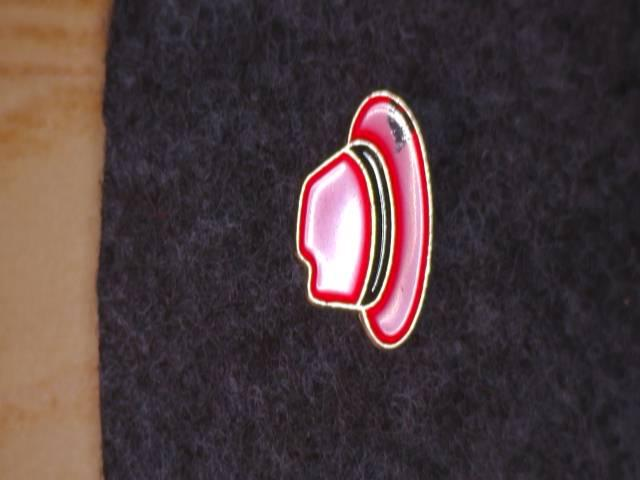Red-Hat: (277, 63, 477, 381)
Scratch: (375, 83, 420, 163)
